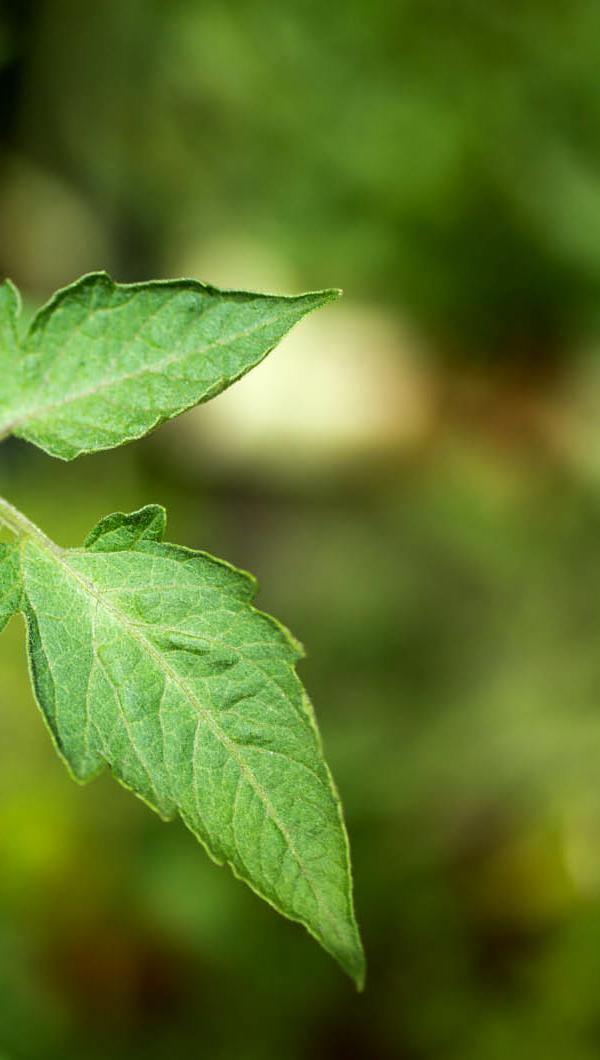Tomato leaf: (0, 509, 424, 1029), (0, 250, 398, 463)
